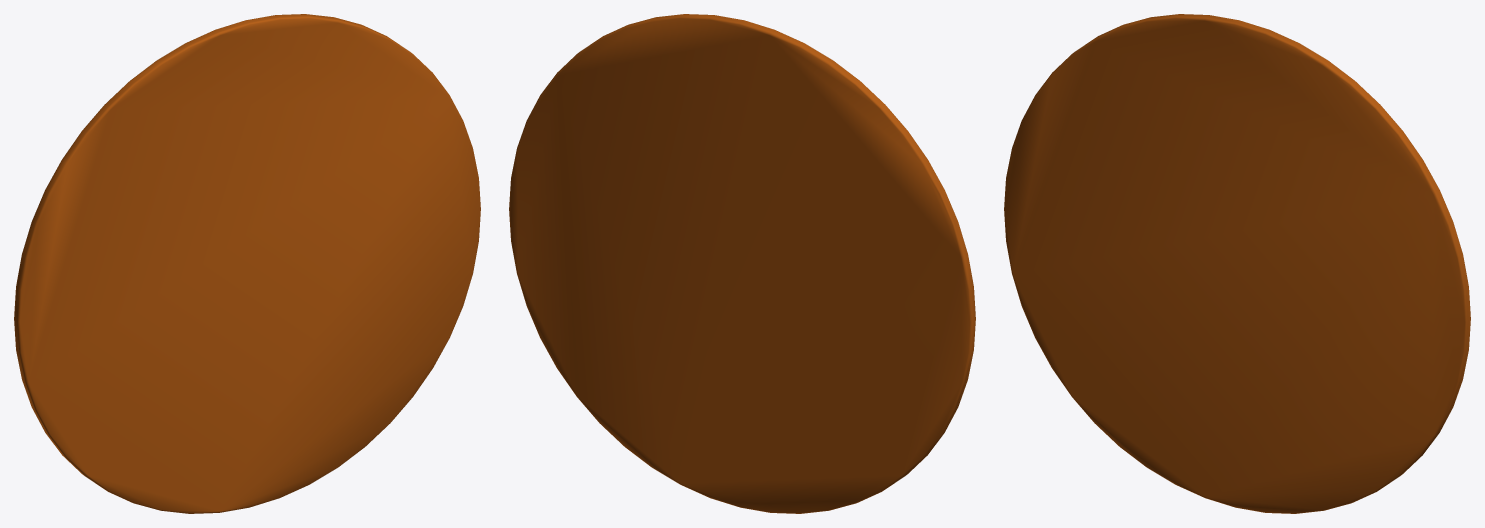
The model's file is loot-bag-golddark.fbx.
The picture shows the model from 3 angles, left to right: view 1: azimuth 30°, elevation 25°; view 2: azimuth 150°, elevation 25°; view 3: azimuth 330°, elevation 25°; orthographic projection.
Parts seen in each view (by area): view 1: GoldDark; view 2: GoldDark; view 3: GoldDark.
Boxes of the visible parts, <box> form: GoldDark: <box>14,14,480,513</box>; GoldDark: <box>509,14,975,513</box>; GoldDark: <box>1004,14,1470,513</box>.
Bounding box in the file's own units: 90.7 × 90.7 × 1.91.
